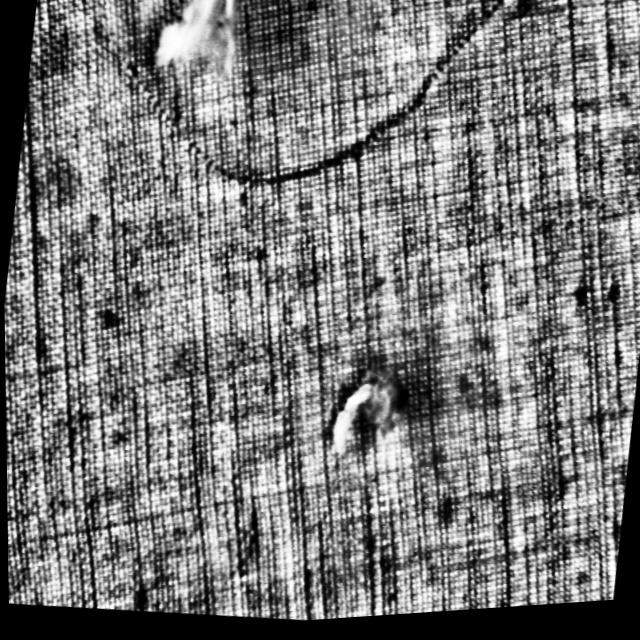Stitch: (246, 57, 413, 246), (146, 0, 244, 105), (322, 371, 413, 473)
